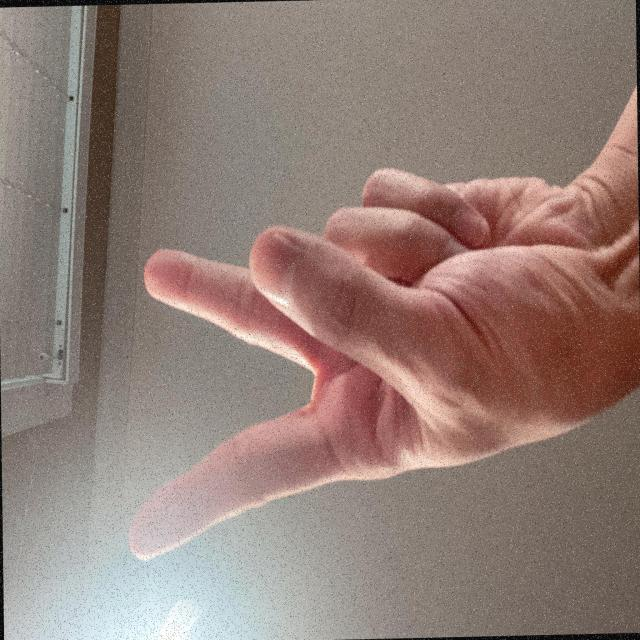K: (57, 158, 376, 640)
